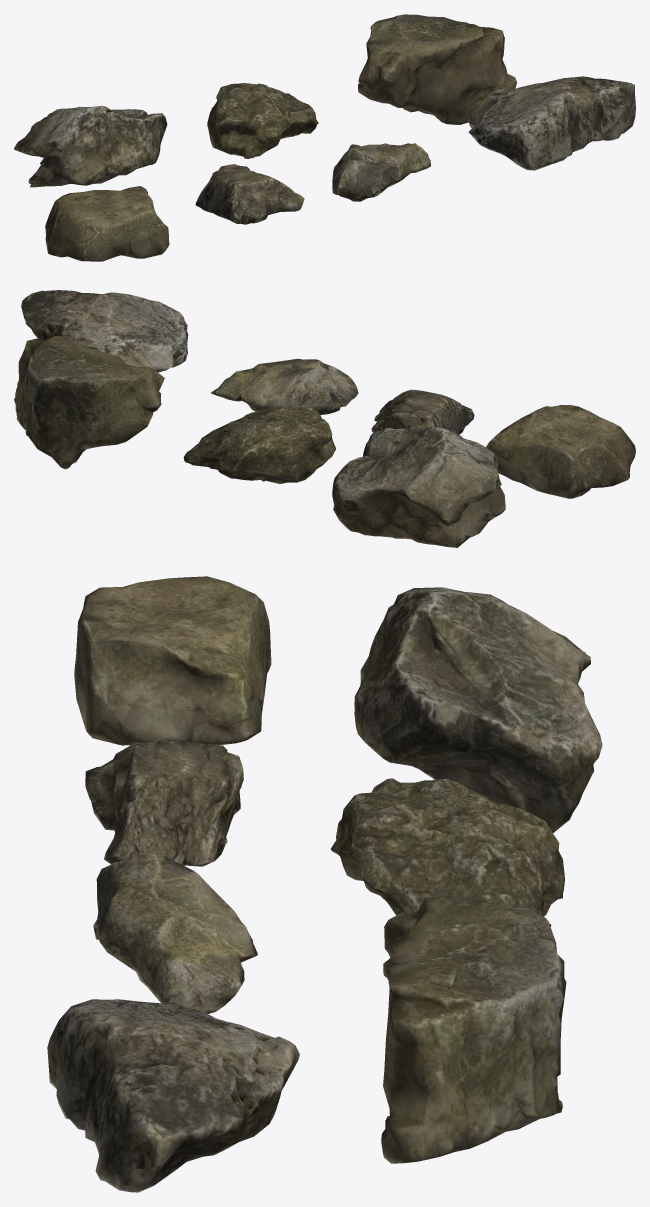
Rendered from rock_moss_set_02.glb.
3 renders of one model, top to bottom at view 1: azimuth 30°, elevation 25°; view 2: azimuth 150°, elevation 25°; view 3: azimuth 270°, elevation 25°, orthographic. The views are drawn at different scales.
Parts seen in each view (by area): view 1: rock_moss_set_02_rock08; view 2: rock_moss_set_02_rock08; view 3: rock_moss_set_02_rock08.
Boxes of the visible parts, bbox=[...] form: rock_moss_set_02_rock08: bbox=[14, 14, 635, 261]; rock_moss_set_02_rock08: bbox=[14, 290, 635, 547]; rock_moss_set_02_rock08: bbox=[47, 576, 602, 1192].
Size of the model in its own units: 8.28 by 1.37 by 3.41.
1 material, 1 textured.
